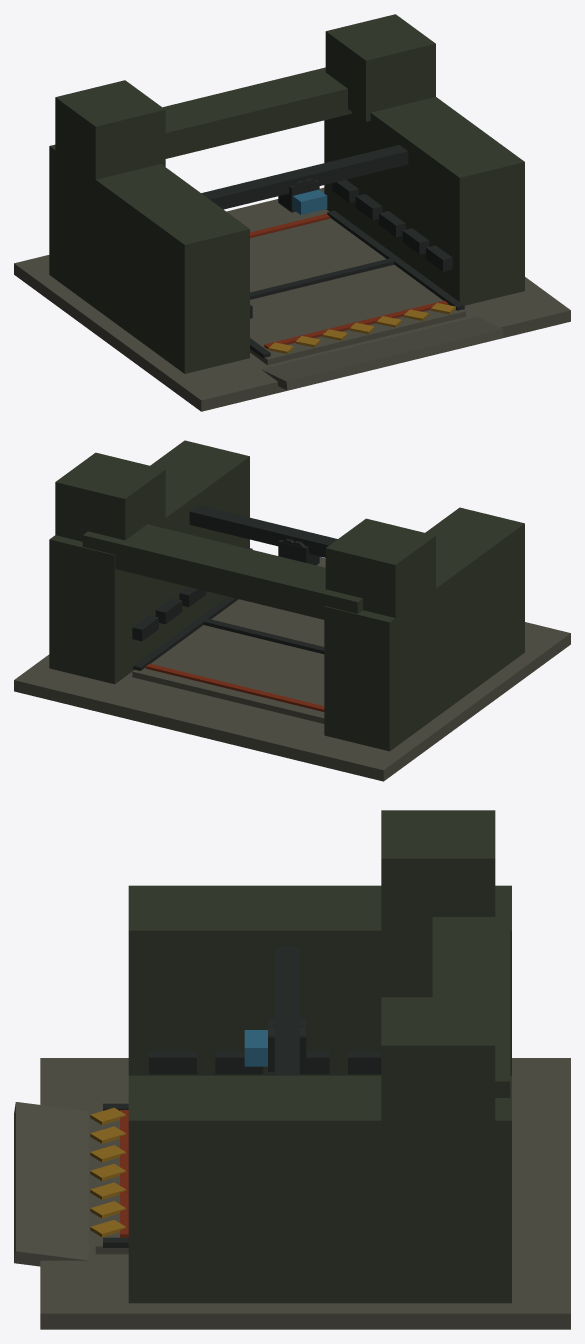
The model's file is Bastion_RepairBay_Articulated.glb.
The picture shows the model from 3 angles, top to bottom: view 1: azimuth 30°, elevation 25°; view 2: azimuth 150°, elevation 25°; view 3: azimuth 270°, elevation 25°; orthographic projection. The views are drawn at different scales.
Parts seen in each view (by area): view 1: Base, ServiceArmRight, ServiceArmLeft; view 2: Base, ServiceArmRight, ServiceArmLeft; view 3: Base, ServiceArmLeft, ServiceArmRight.
Boxes of the visible parts, x1,y1,x2,y2 form: Base: (14, 14, 570, 411); ServiceArmRight: (278, 145, 408, 214); ServiceArmLeft: (201, 168, 327, 211); Base: (14, 440, 570, 781); ServiceArmRight: (189, 505, 321, 565); ServiceArmLeft: (278, 532, 337, 558); Base: (14, 810, 570, 1329); ServiceArmLeft: (244, 946, 306, 1071); ServiceArmRight: (244, 1014, 306, 1075).
Size of the model in its own units: 8.2 by 4.1 by 7.56.
Materials: 1 (1 with a texture image).
